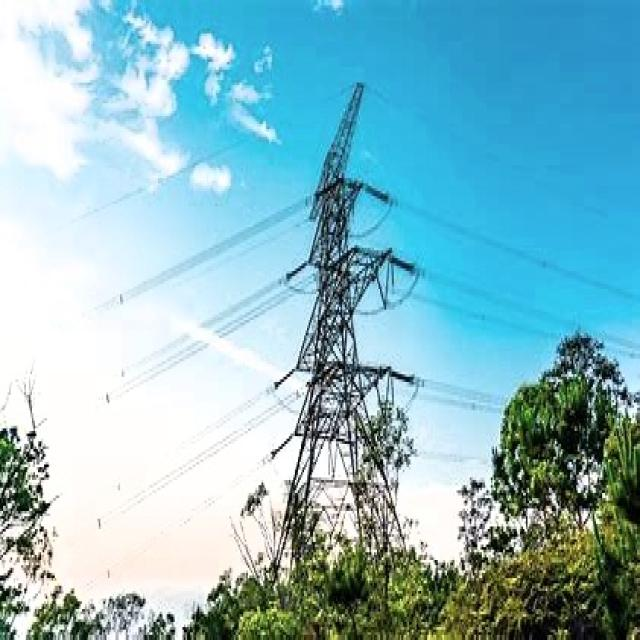utility poles: (487, 305, 611, 482), (325, 394, 438, 540)
